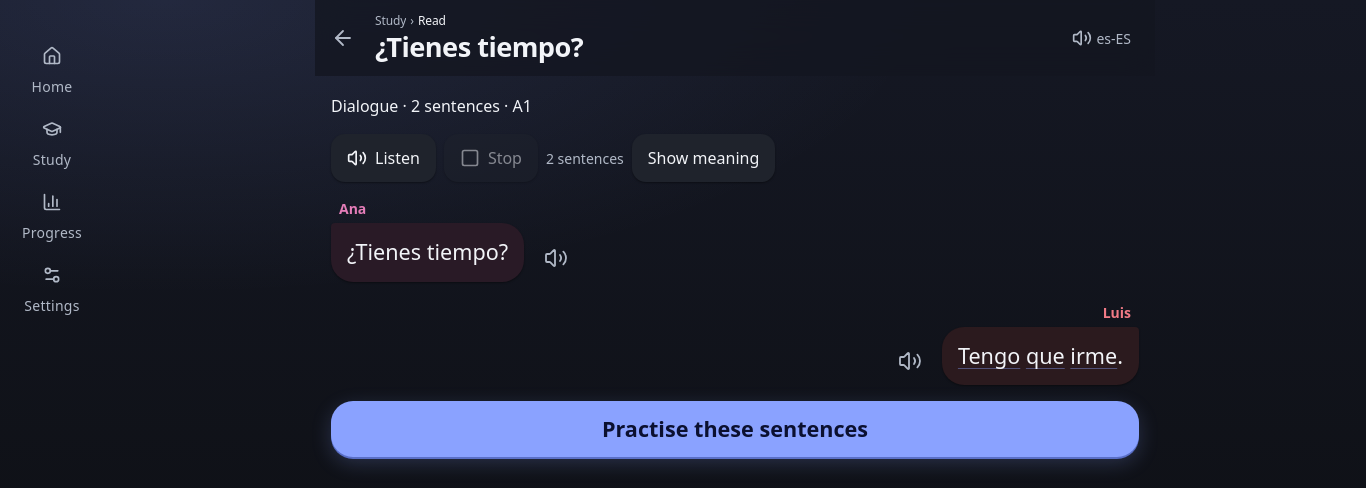
Test: reading a passage aloud › stops the reading from the line that is speaking, which is what its bars offer
Expected: the heading "¿Tienes tiempo?" is shown, x1=375 y1=28 x2=583 y2=65
Click the button "Listen". click: (383, 158)
box: x1=331 y1=134 x2=436 y2=182
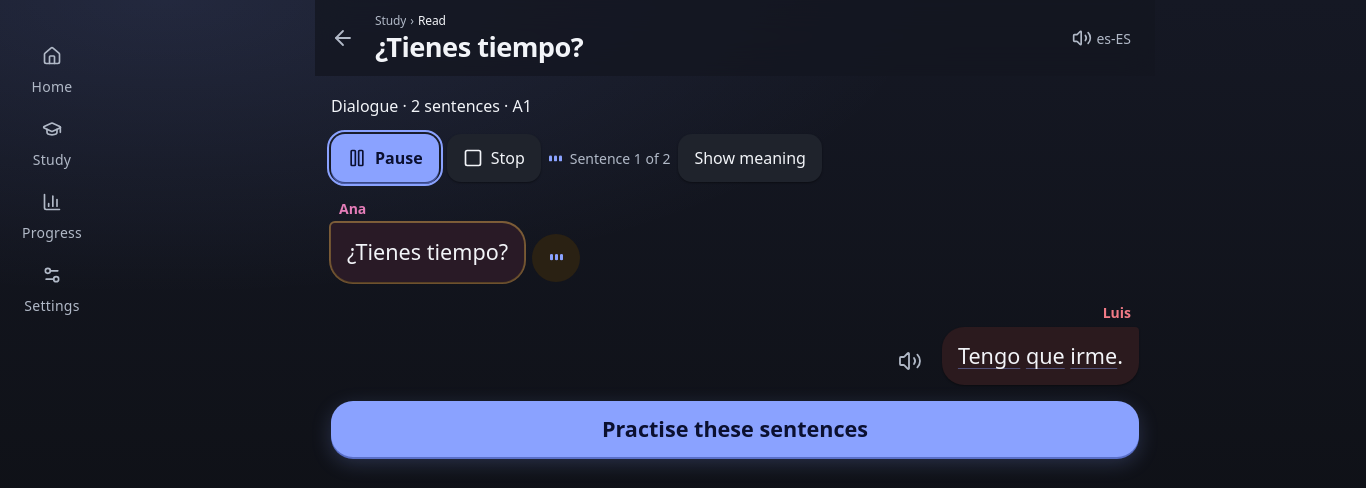
Click the button named "Stop reading “¿Tienes tiempo?”". click: (556, 258)
box: x1=532 y1=234 x2=580 y2=282
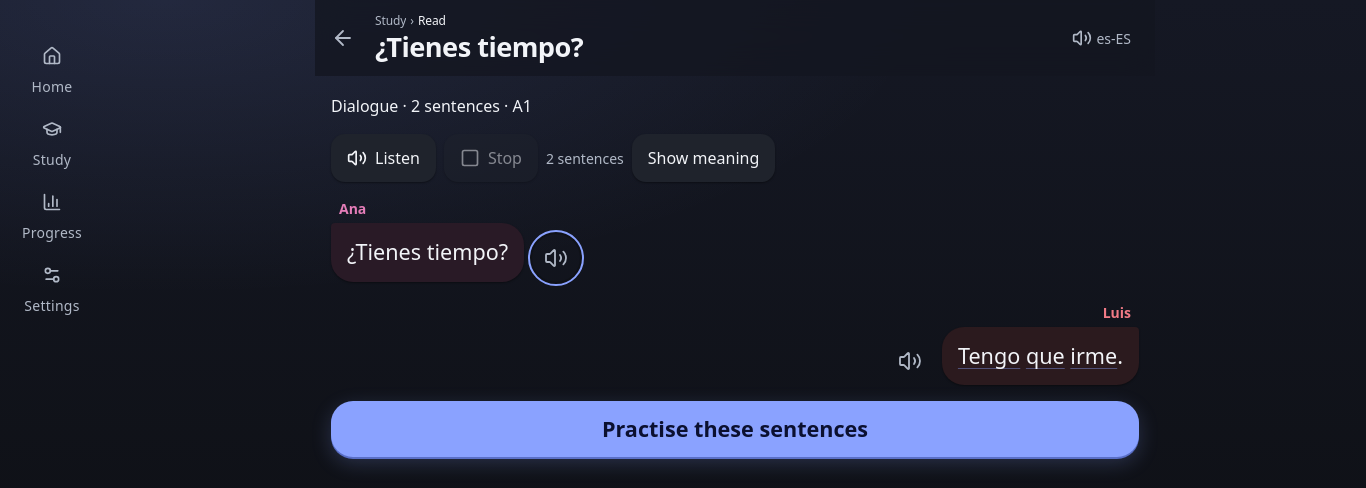
Expected: the button "Listen" is shown, x1=331 y1=134 x2=436 y2=182
